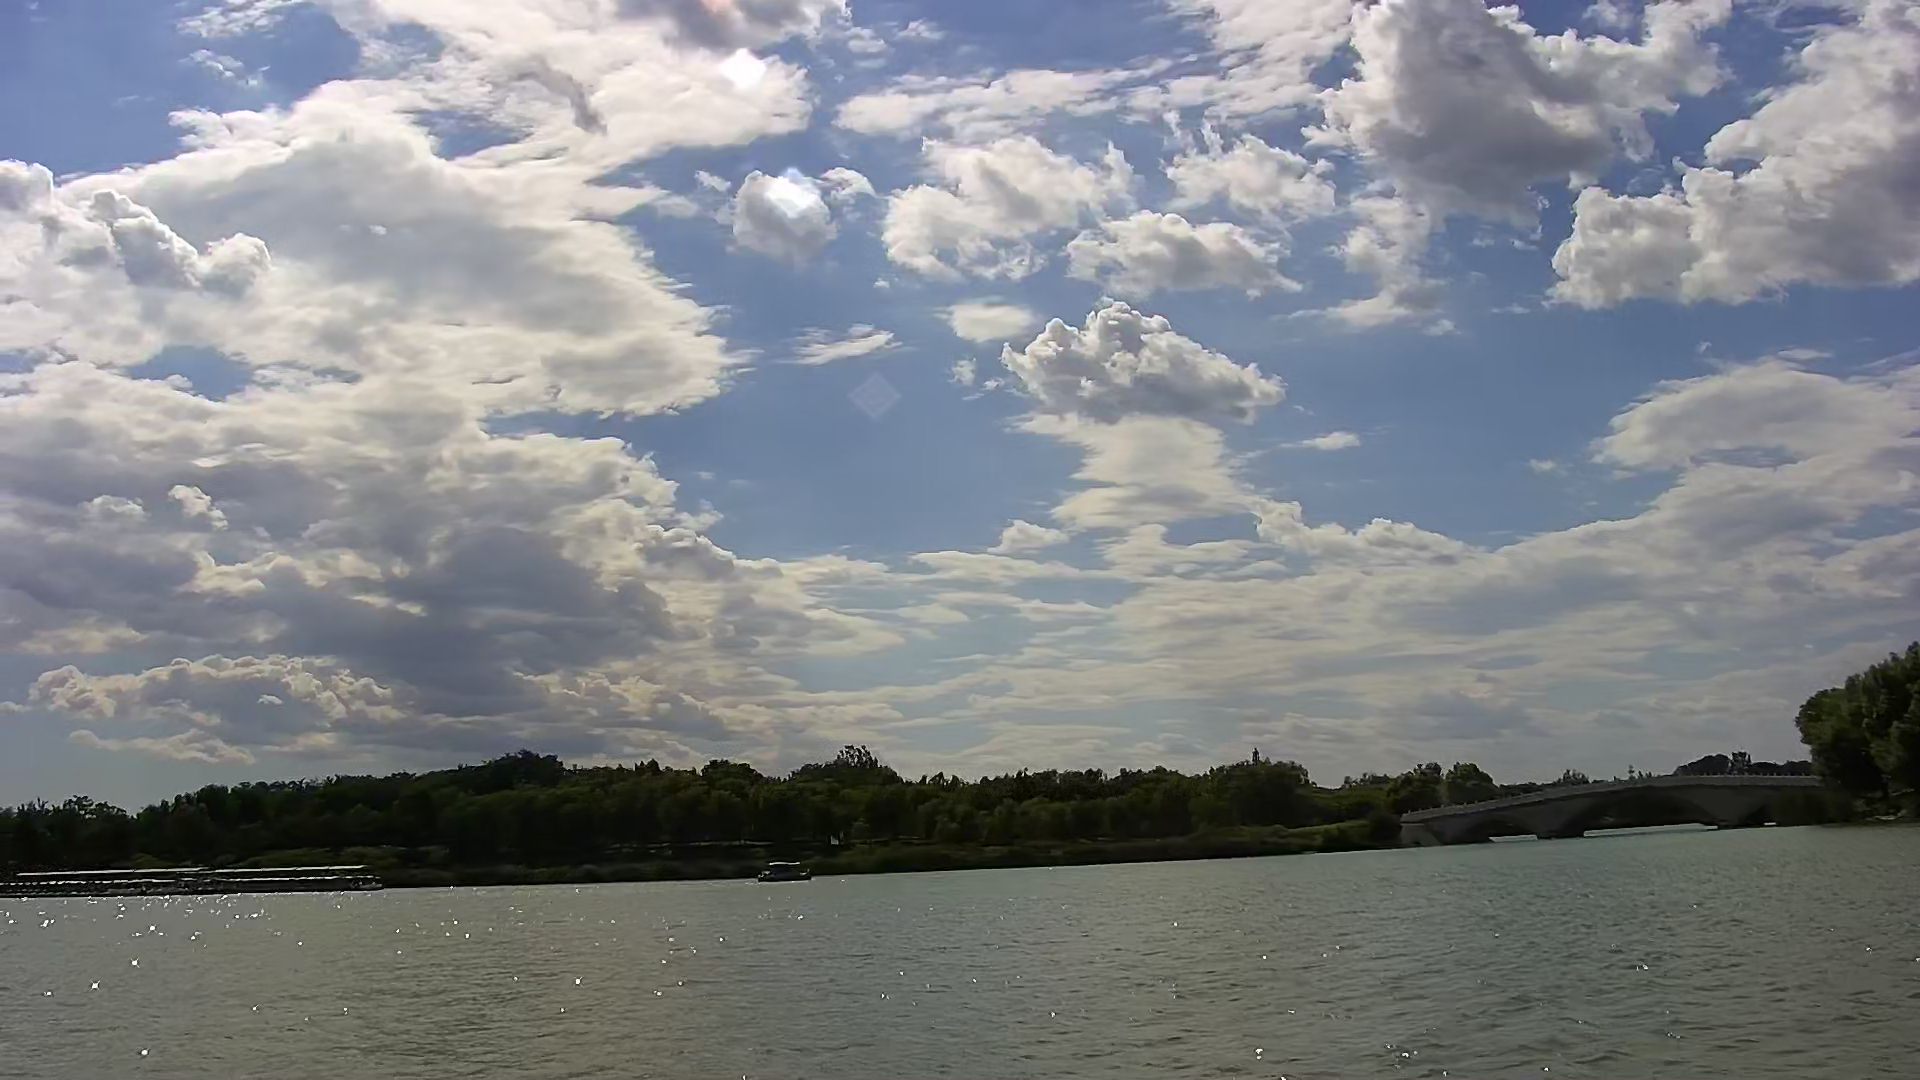boat: (758, 855, 810, 882)
bridge: (1420, 769, 1832, 841)
harbor: (15, 865, 393, 901)
